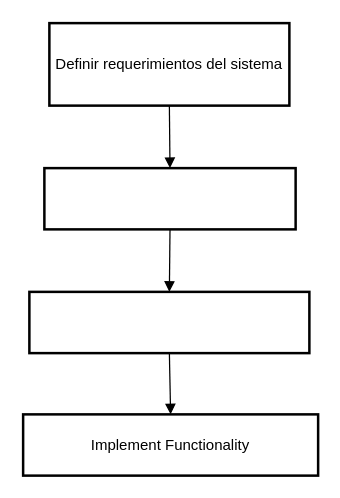
The diagram is 340 pixels wide and 498 high, and some of its shapes have lost their labels. The centre of each missing label's shape, as x and y in pixels:
"Develop User Interface" belongs at point 169,322.
"Diseñar arquitectura" belongs at point 169,198.
